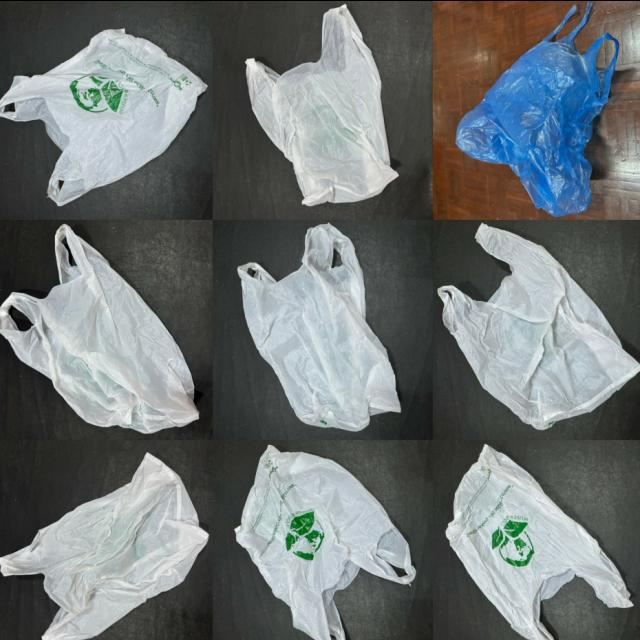plastik: (438, 223, 640, 428), (0, 224, 199, 432), (0, 453, 207, 640), (0, 28, 206, 205), (447, 444, 632, 640), (235, 444, 416, 640), (456, 1, 618, 215), (238, 223, 400, 431), (247, 4, 398, 205)
